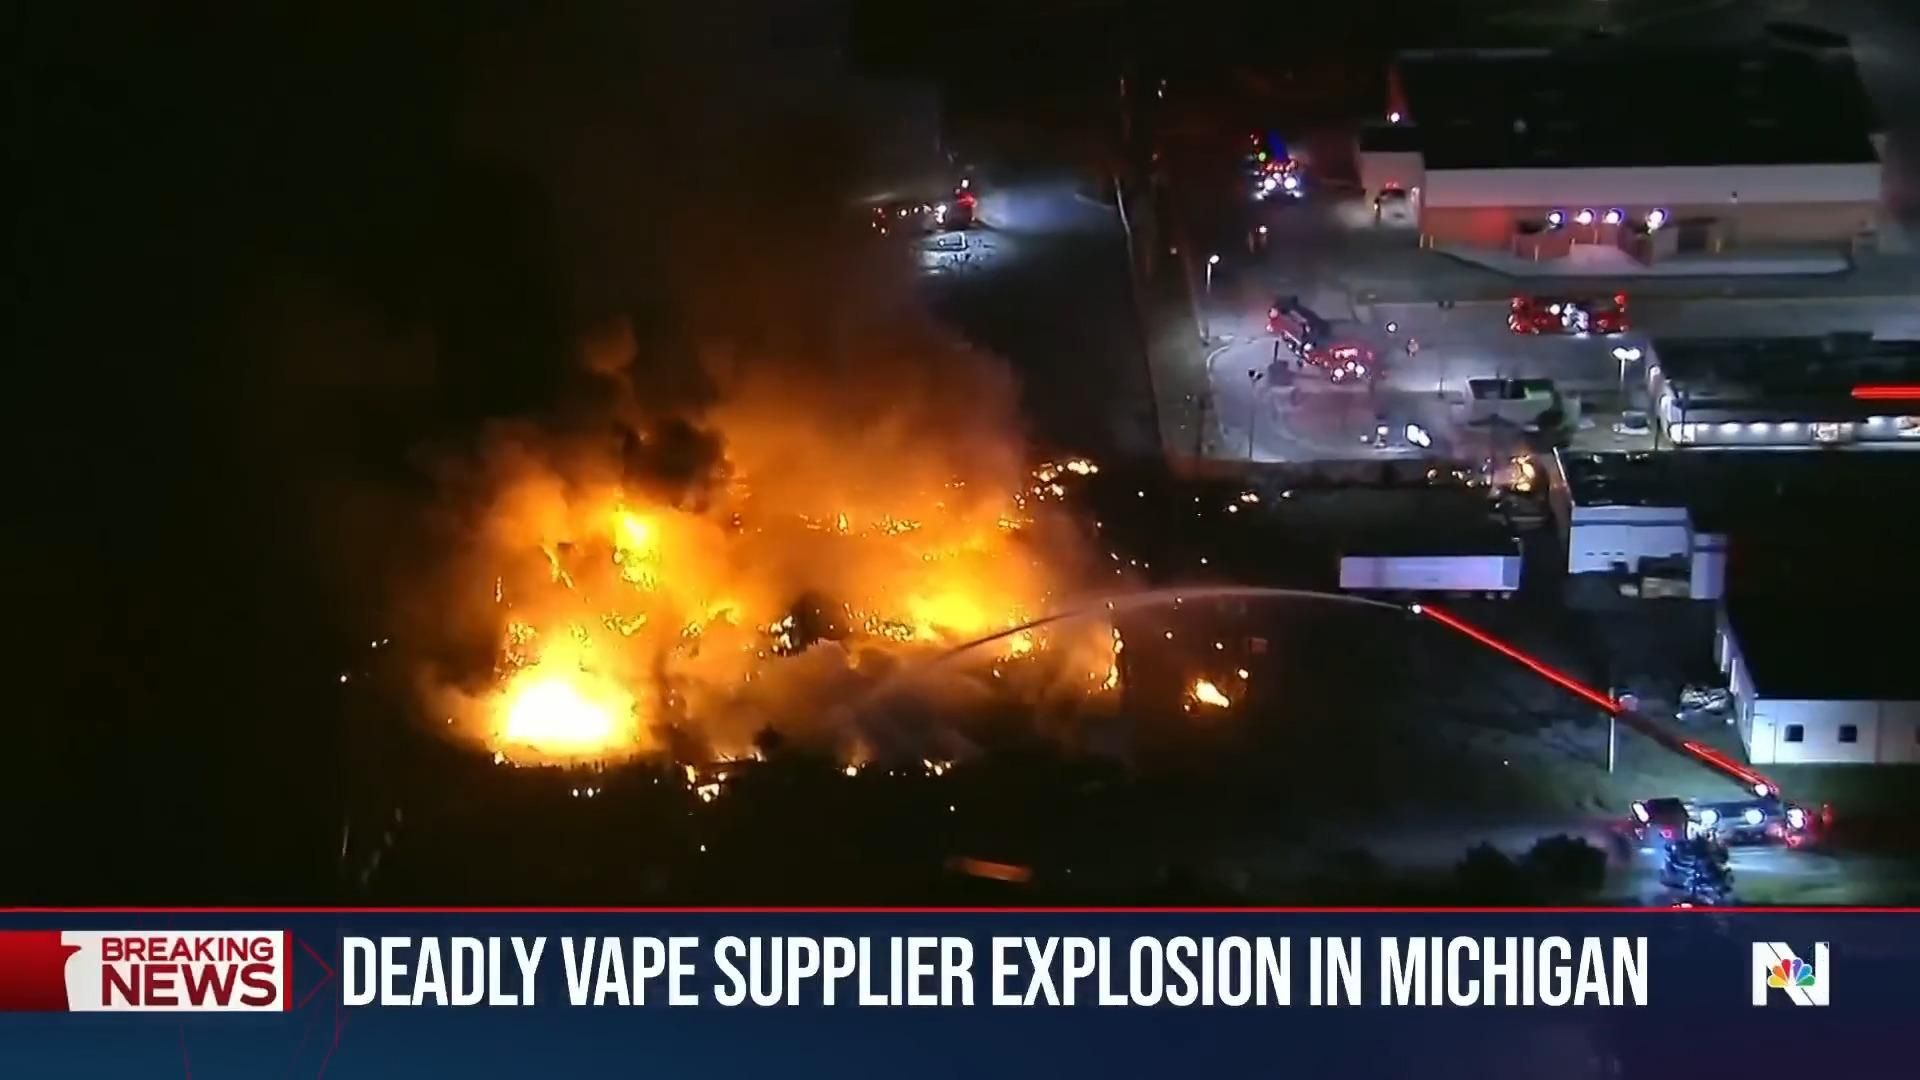fire: (443, 338, 1019, 778)
